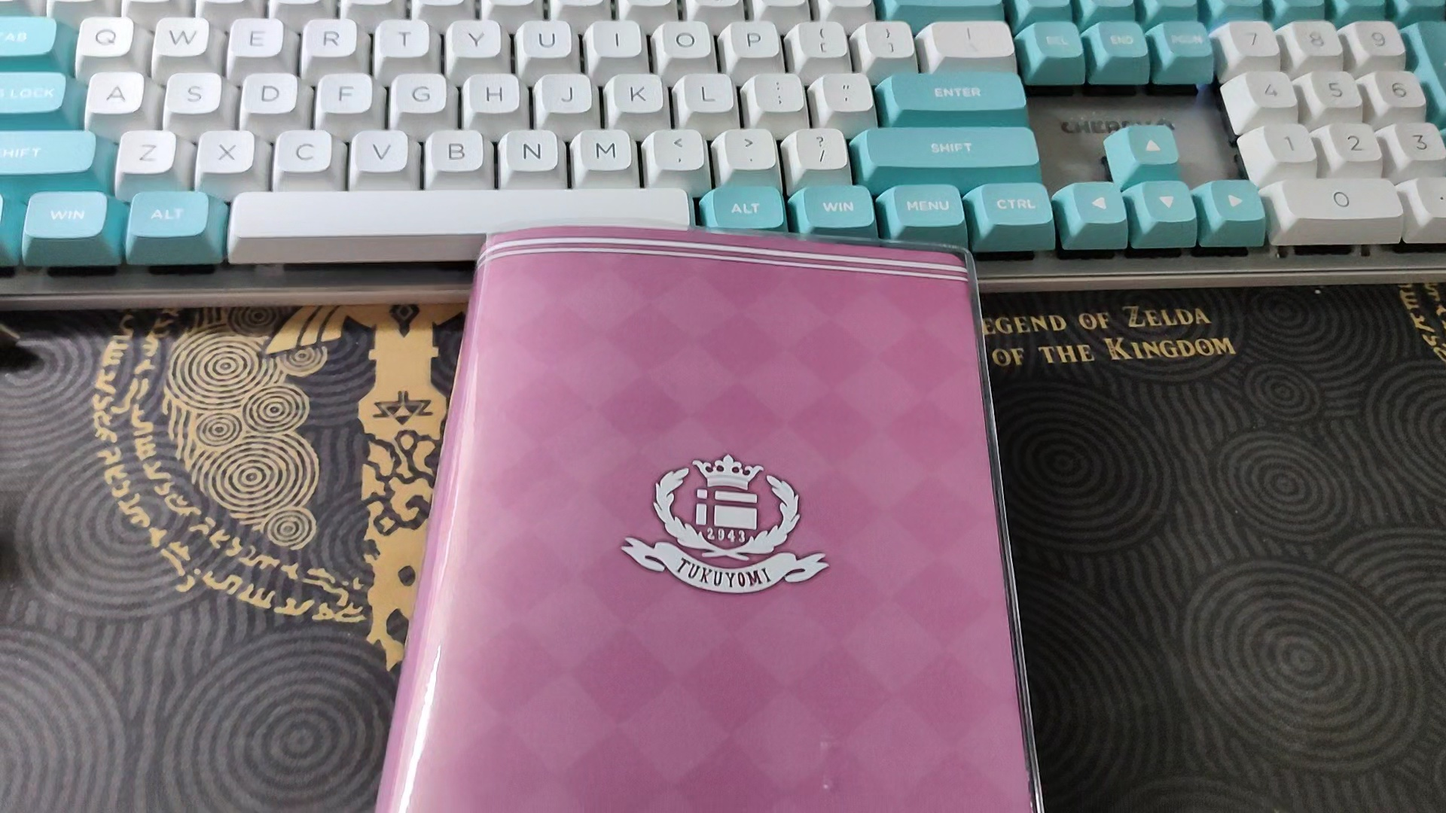Photo_book: (376, 218, 1043, 813)
